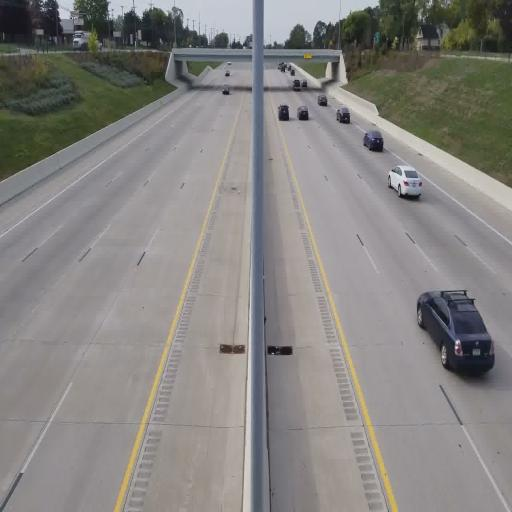Car: (416, 288, 495, 374), (388, 164, 422, 199), (363, 129, 384, 152), (336, 106, 350, 123), (298, 106, 308, 120), (317, 94, 328, 106), (222, 85, 230, 95)
Truck: (277, 104, 290, 121)
